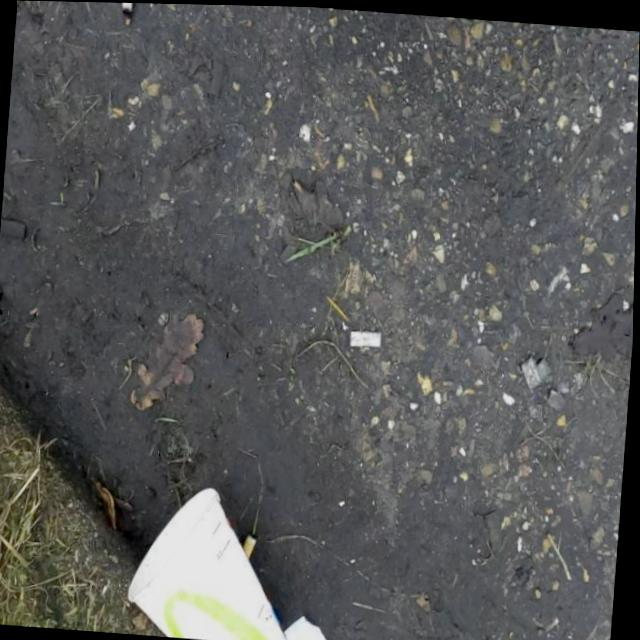Cup: (124, 477, 308, 640)
Plastic: (284, 611, 339, 640)
